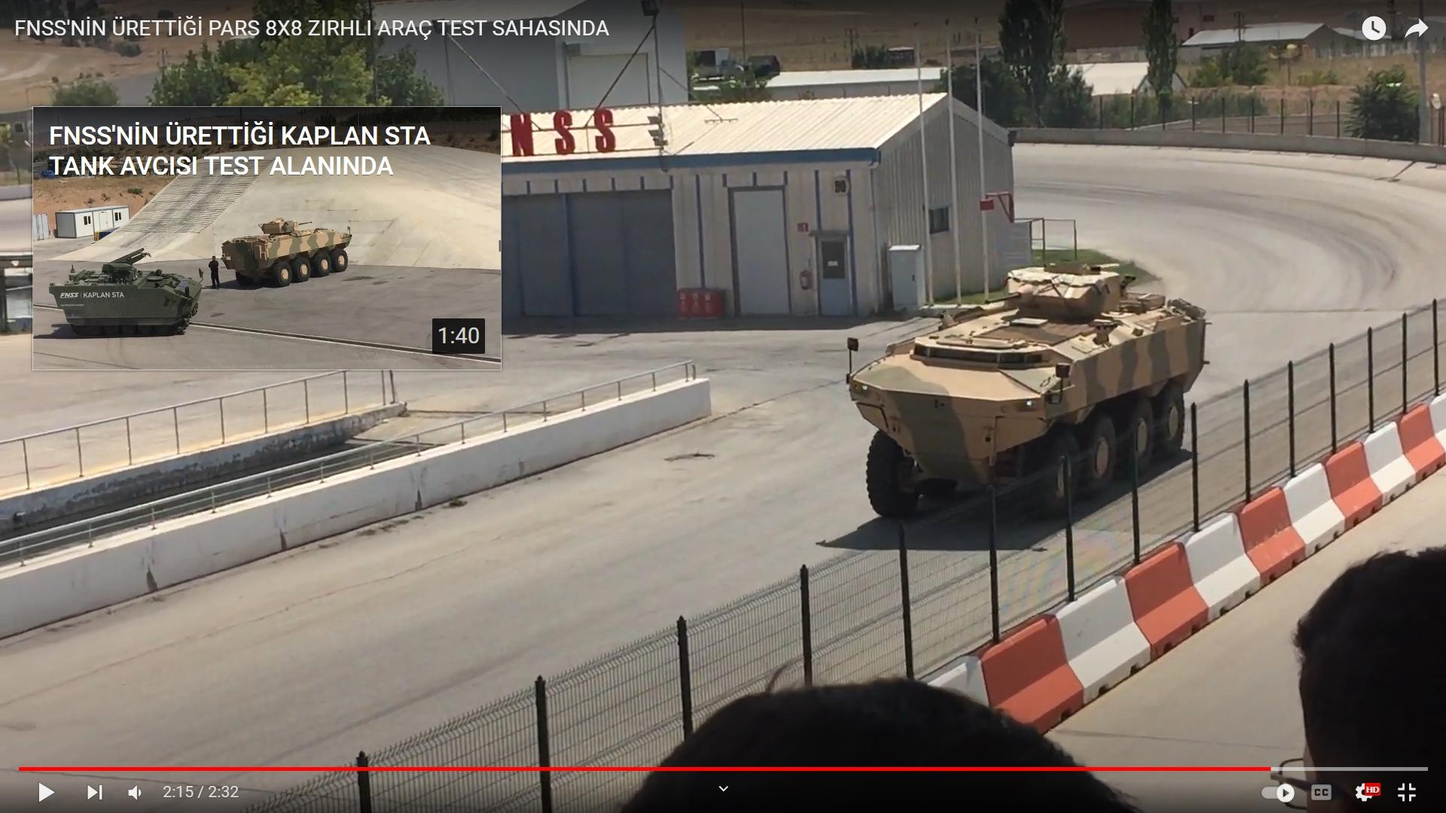armored_car: (844, 229, 1214, 527), (49, 249, 201, 338), (216, 215, 354, 288)
